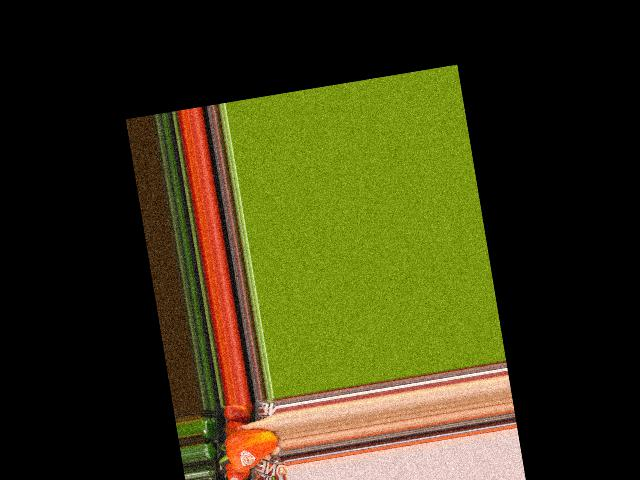bell_pepper: (213, 420, 281, 476)
